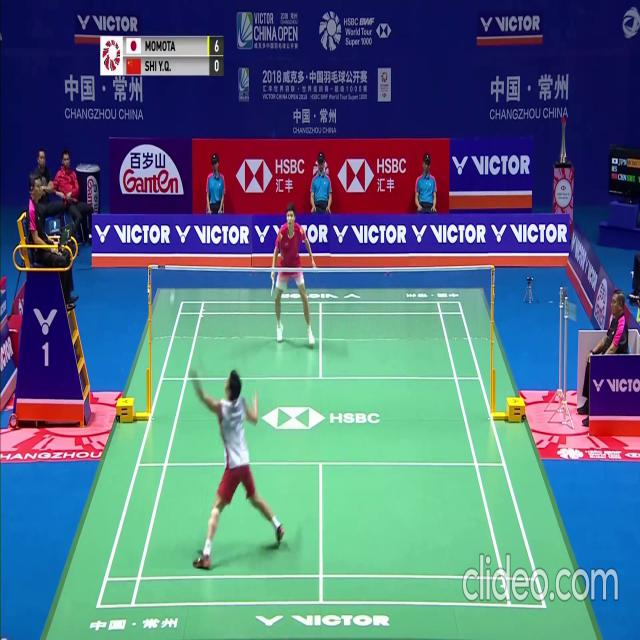Shuttlecock: (170, 297, 174, 304)
